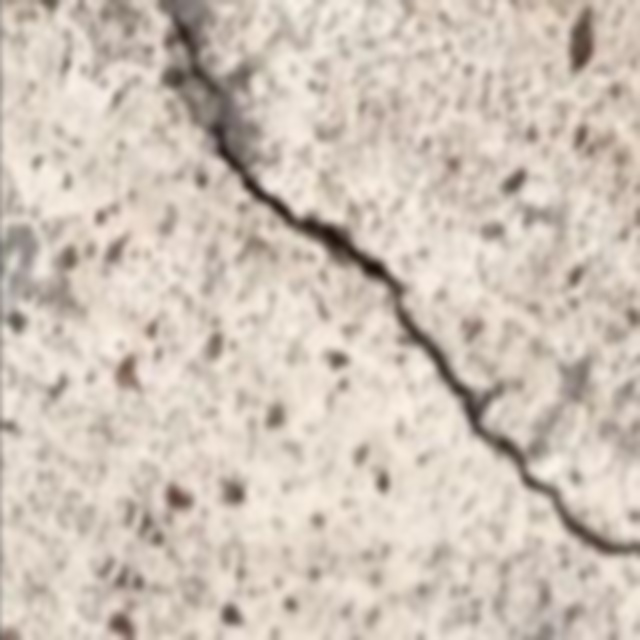SurfaceCrack: (126, 0, 640, 568)
